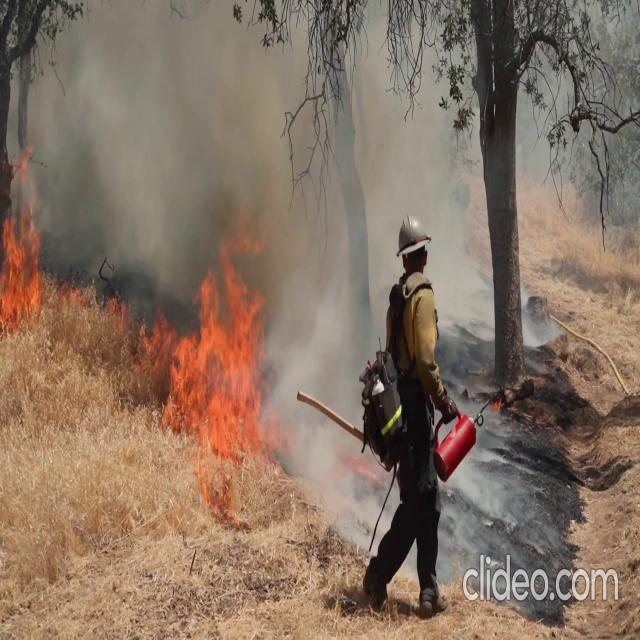Fire: (156, 245, 272, 486), (0, 145, 111, 325), (0, 145, 46, 326)
Smoke: (30, 11, 624, 313), (31, 2, 482, 293)
